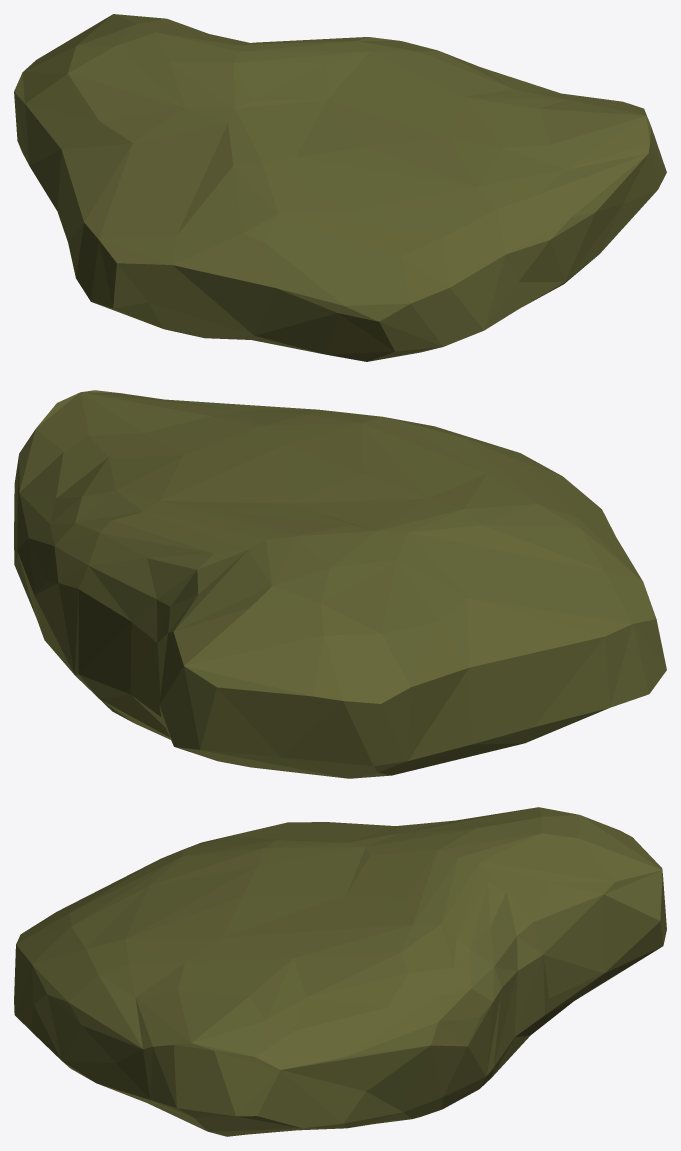
File: Mosh 01.FBX
3 renders of one model, top to bottom at view 1: azimuth 30°, elevation 25°; view 2: azimuth 150°, elevation 25°; view 3: azimuth 270°, elevation 25°, orthographic. The views are drawn at different scales.
Parts seen in each view (by area): view 1: cube; view 2: cube; view 3: cube.
Boxes of the visible parts, bbox=[...] form: cube: bbox=[14, 14, 666, 361]; cube: bbox=[14, 390, 666, 778]; cube: bbox=[14, 807, 666, 1136].
Size of the model in its own units: 93.28 by 33.01 by 93.14.
